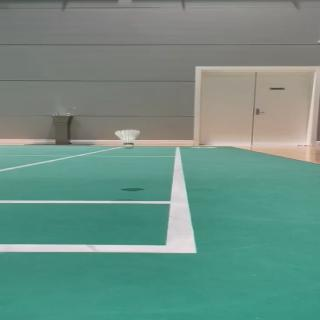Shuttle: (114, 129, 140, 148)
